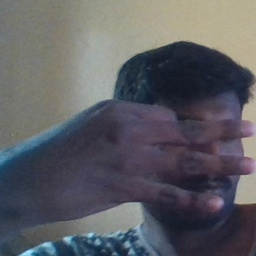K: (32, 100, 256, 225)
